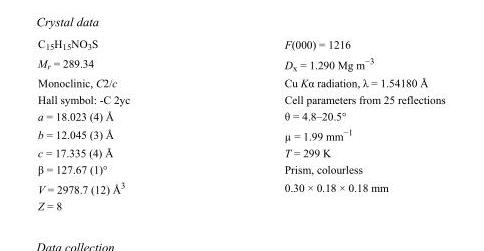table: (37, 36, 444, 211)
table column: (206, 36, 444, 211), (37, 36, 206, 211)
table row: (37, 53, 444, 74), (37, 124, 444, 144), (37, 177, 444, 197), (37, 36, 444, 53), (37, 90, 444, 107), (37, 107, 444, 124), (37, 160, 444, 177), (37, 74, 444, 90), (37, 144, 444, 160), (37, 197, 444, 211)
